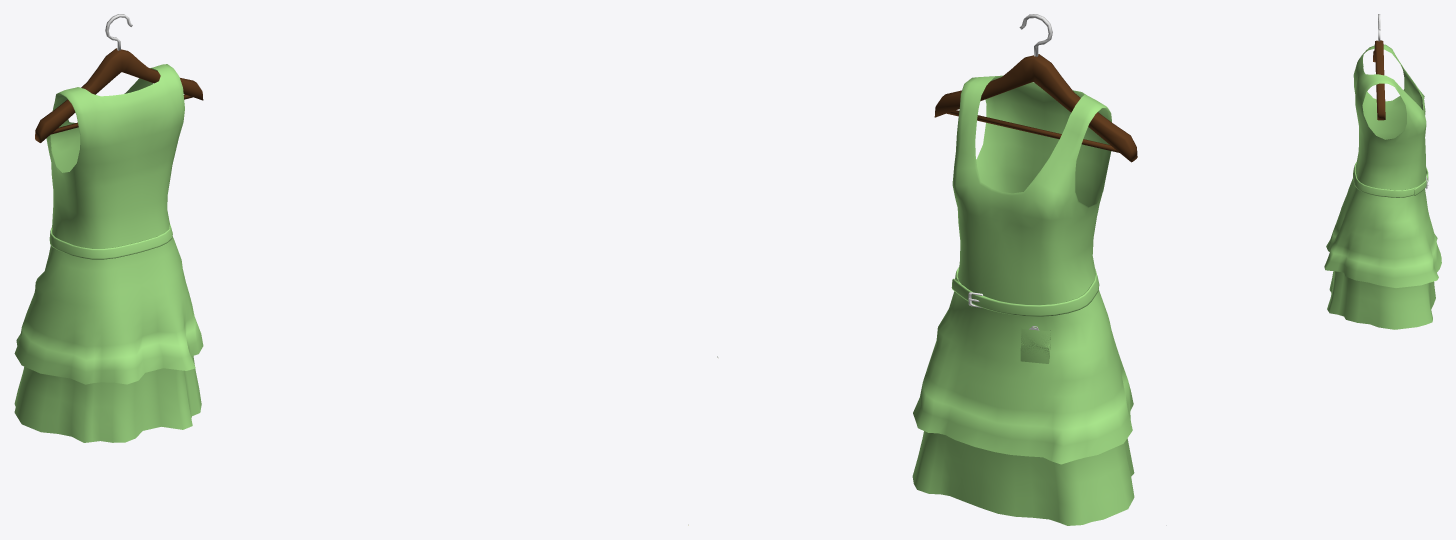
Rendered from vestido.glb.
3 renders of one model, left to right at view 1: azimuth 30°, elevation 25°; view 2: azimuth 150°, elevation 25°; view 3: azimuth 270°, elevation 25°, orthographic. The views are drawn at different scales.
Parts seen in each view (by area): view 1: Dress, Hanger; view 2: Dress, Hanger, BOLSO; view 3: Dress, Hanger.
Boxes of the visible parts, left/top/right/bottom form: Dress: left=14, top=64, right=203, bottom=442; Hanger: left=35, top=14, right=203, bottom=142; Dress: left=912, top=75, right=1134, bottom=525; Hanger: left=934, top=14, right=1137, bottom=162; BOLSO: left=1020, top=328, right=1050, bottom=363; Dress: left=1324, top=44, right=1441, bottom=329; Hanger: left=1373, top=14, right=1385, bottom=120.
Size of the model in its own units: 28.18 by 26.73 by 18.4.
Materials: 6 (1 with a texture image).
